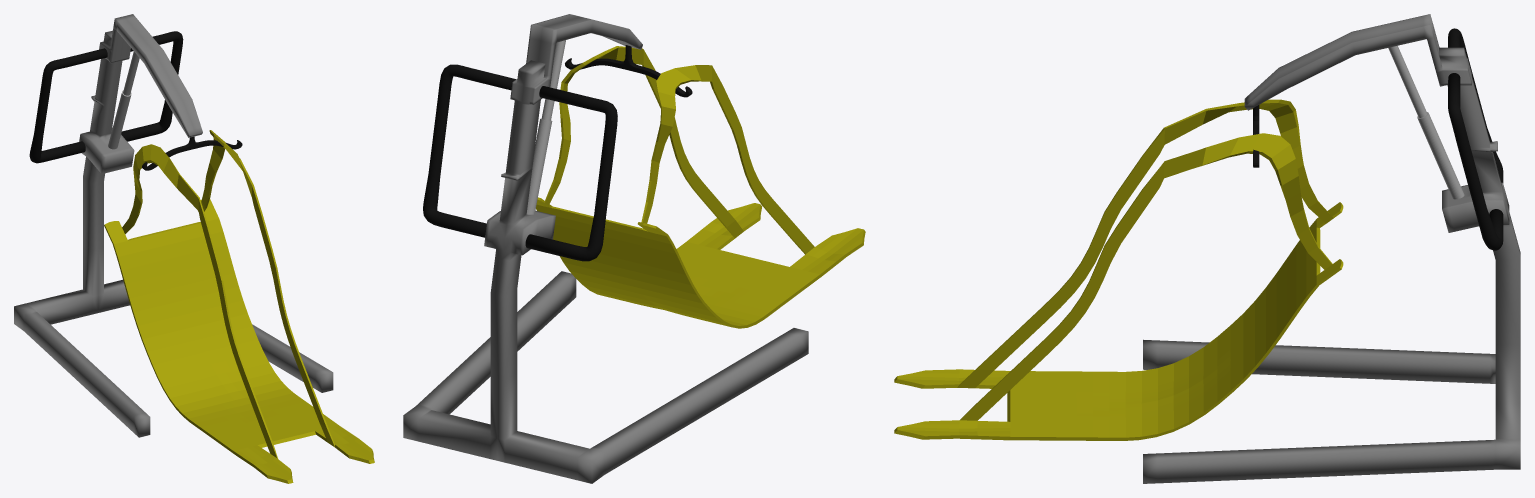
The model's file is Gulv Lift.obj.
3 views of the same model, side by side, from view 1: azimuth 30°, elevation 25°; view 2: azimuth 150°, elevation 25°; view 3: azimuth 270°, elevation 25° (orthographic). The views are drawn at different scales.
Visible parts, largest first — view 1: Gulv_Lift_Sele_Plane.001, Gulv_Lift_Frame.001_Gulv_Lift_Hydraolik.005, Gulv_Lift_Handle_Cylinder.001, Gulv_Lift_Hydraolik_Cylinder, Gulv_Lift_Hook_Cylinder.003; view 2: Gulv_Lift_Frame.001_Gulv_Lift_Hydraolik.005, Gulv_Lift_Sele_Plane.001, Gulv_Lift_Handle_Cylinder.001, Gulv_Lift_Hydraolik_Cylinder, Gulv_Lift_Hook_Cylinder.003; view 3: Gulv_Lift_Sele_Plane.001, Gulv_Lift_Frame.001_Gulv_Lift_Hydraolik.005, Gulv_Lift_Handle_Cylinder.001, Gulv_Lift_Hydraolik_Cylinder.
Part boxes in pixels (x1=…): Gulv_Lift_Sele_Plane.001: x1=104, y1=130, x2=374, y2=483; Gulv_Lift_Frame.001_Gulv_Lift_Hydraolik.005: x1=14, y1=14, x2=333, y2=437; Gulv_Lift_Handle_Cylinder.001: x1=29, y1=31, x2=183, y2=163; Gulv_Lift_Hydraolik_Cylinder: x1=108, y1=51, x2=139, y2=149; Gulv_Lift_Hook_Cylinder.003: x1=142, y1=136, x2=242, y2=170; Gulv_Lift_Frame.001_Gulv_Lift_Hydraolik.005: x1=403, y1=14, x2=808, y2=483; Gulv_Lift_Sele_Plane.001: x1=536, y1=46, x2=865, y2=328; Gulv_Lift_Handle_Cylinder.001: x1=423, y1=64, x2=617, y2=261; Gulv_Lift_Hydraolik_Cylinder: x1=526, y1=40, x2=565, y2=214; Gulv_Lift_Hook_Cylinder.003: x1=565, y1=45, x2=692, y2=97; Gulv_Lift_Sele_Plane.001: x1=894, y1=99, x2=1343, y2=440; Gulv_Lift_Frame.001_Gulv_Lift_Hydraolik.005: x1=1143, y1=14, x2=1520, y2=483; Gulv_Lift_Handle_Cylinder.001: x1=1448, y1=28, x2=1503, y2=250; Gulv_Lift_Hydraolik_Cylinder: x1=1388, y1=46, x2=1464, y2=199.
Size of the model in its own units: 1.14 by 1.77 by 2.49.
